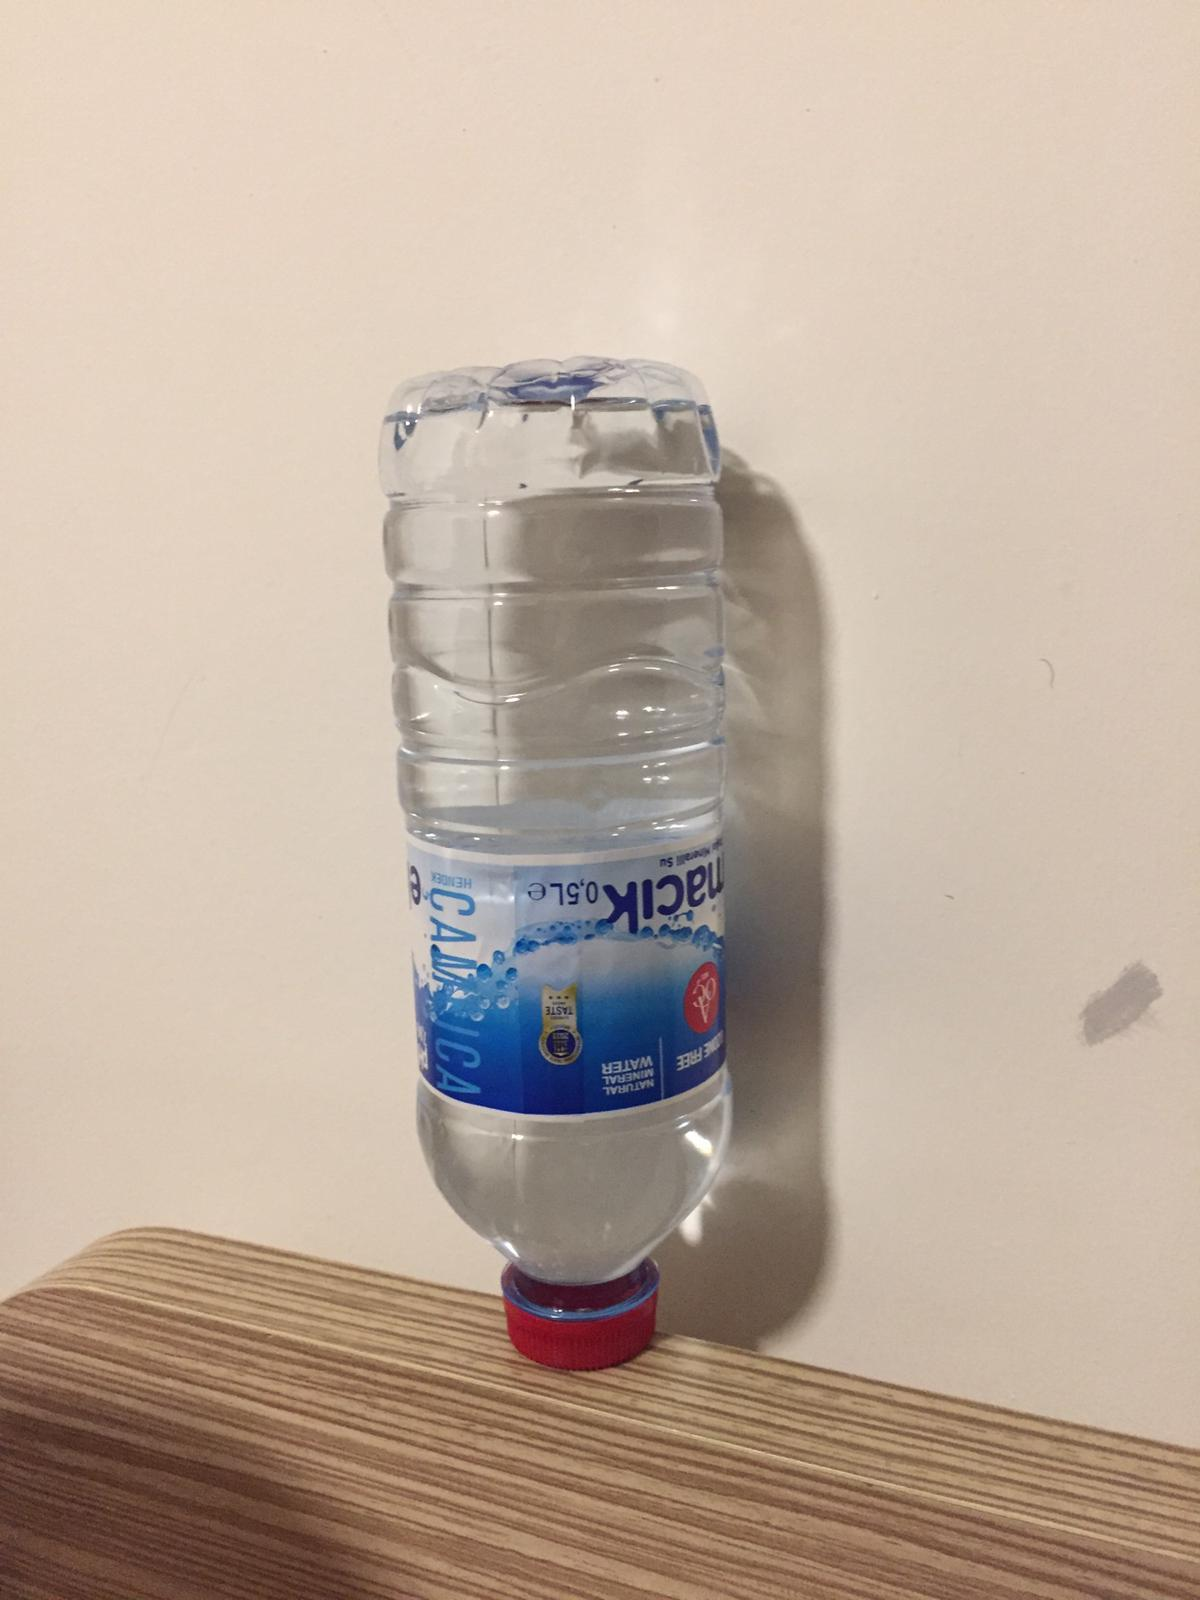bottle: (376, 354, 741, 1376)
